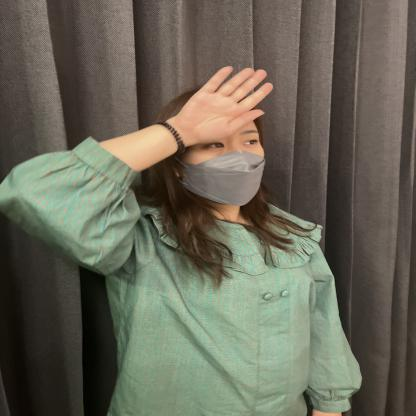Sick: (31, 52, 407, 233)
